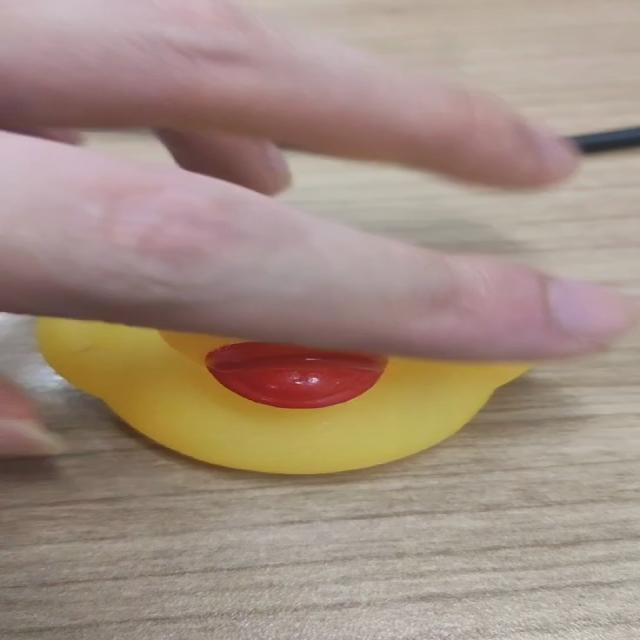rubber-duck: (37, 317, 527, 472)
